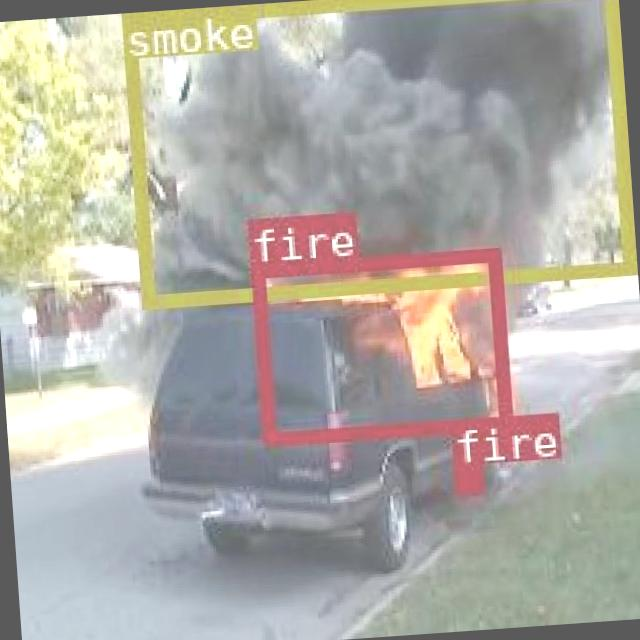fire: (248, 245, 510, 442), (452, 460, 482, 492)
smoke: (117, 0, 631, 304)
